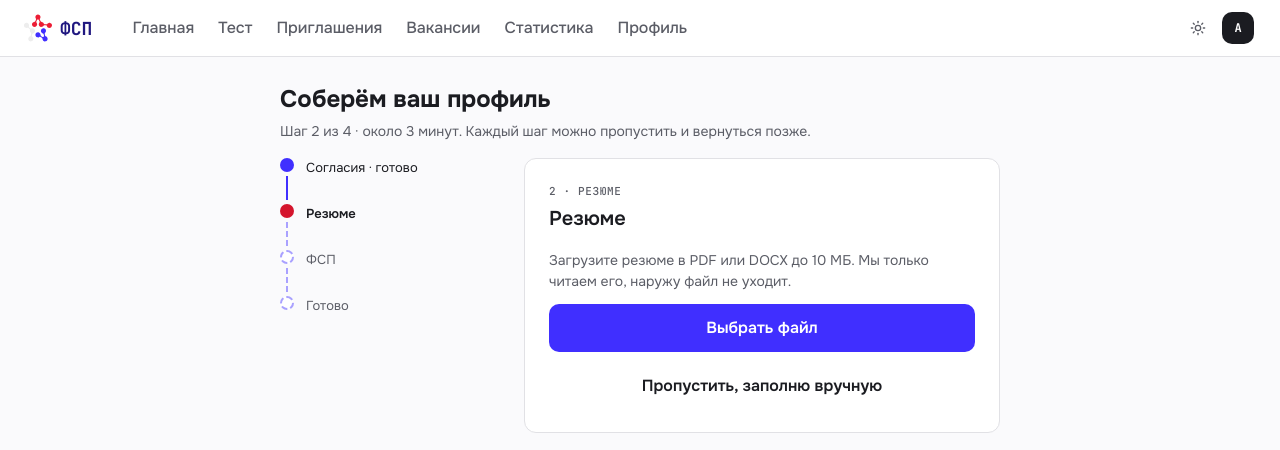
it: один шаг на экран: схемная линия отмечает текущий шаг, остальные шаги не показаны
Expected: the element with test id "onboarding-step-resume" is shown, [524,158,1000,432]
Expected: the list item "Резюме" is shown, [280,204,424,246]
Click the button with test id "onboarding-skip". click: {"x": 762, "y": 386}
box: [549,364,975,408]
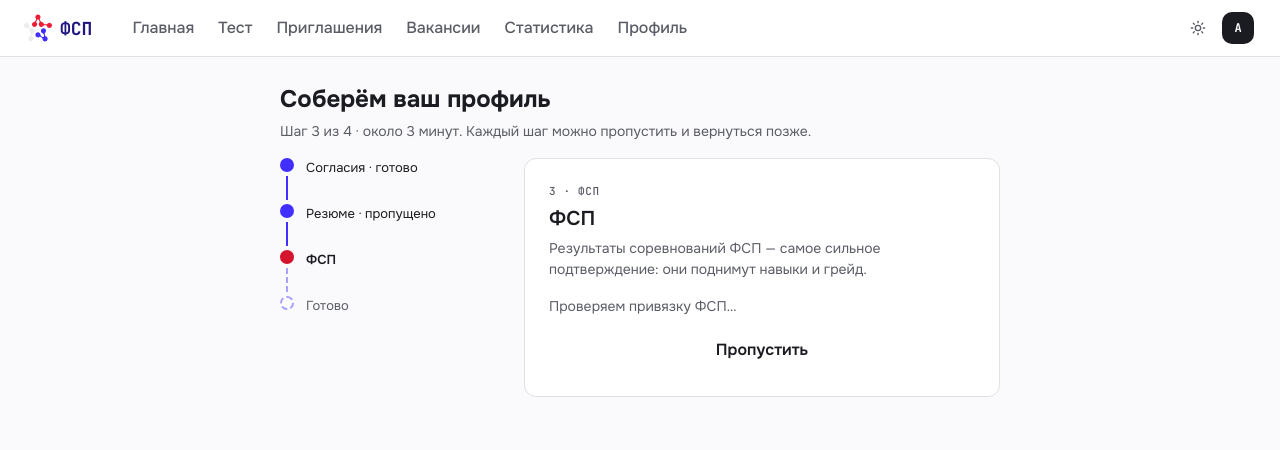
Now the element with test id "onboarding-step-fsp" is shown, box [524,158,1000,396]
